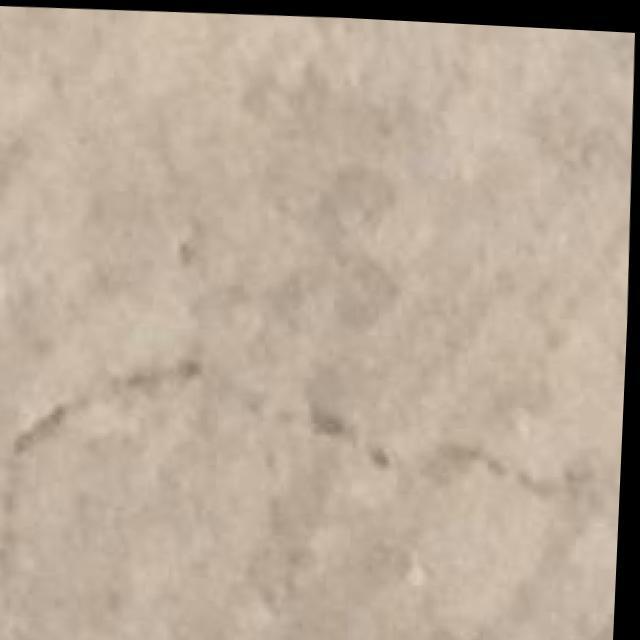Crack: (0, 324, 629, 550)
